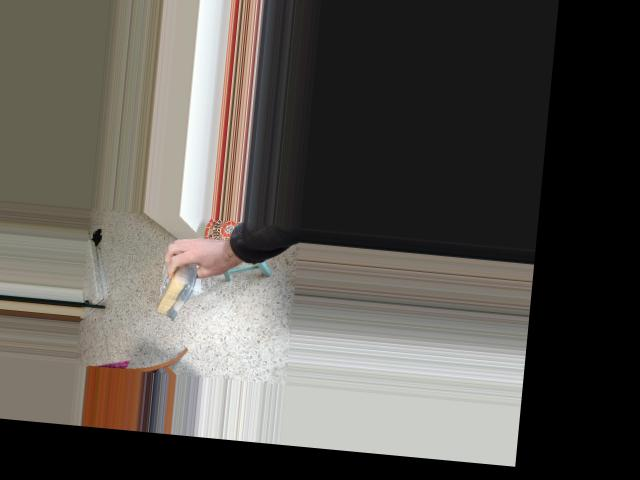cheese: (155, 235, 203, 326)
